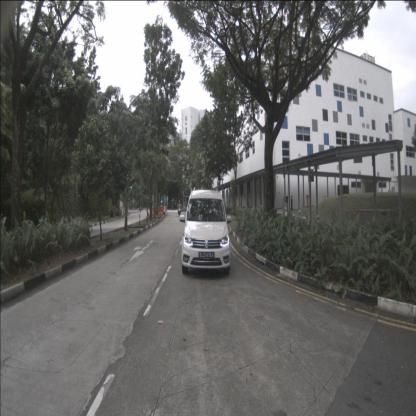barrier: (159, 206, 163, 216), (151, 206, 154, 216), (157, 206, 160, 216)
